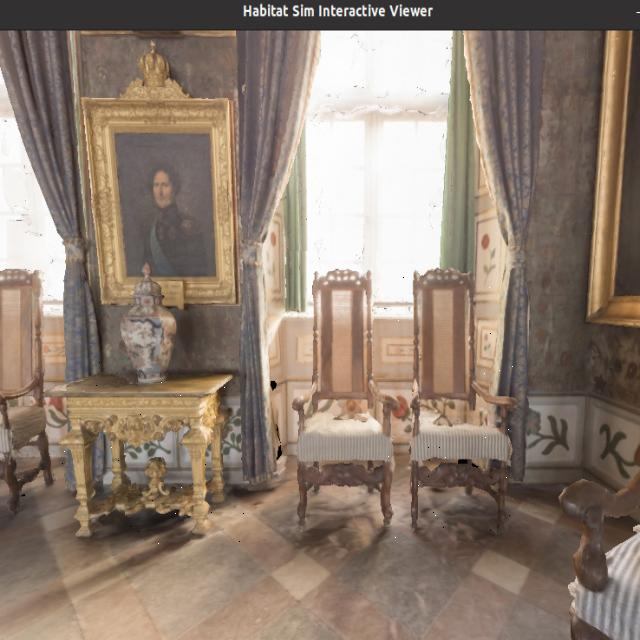chair: (388, 264, 523, 550), (288, 251, 400, 542)
table: (46, 356, 249, 548)
